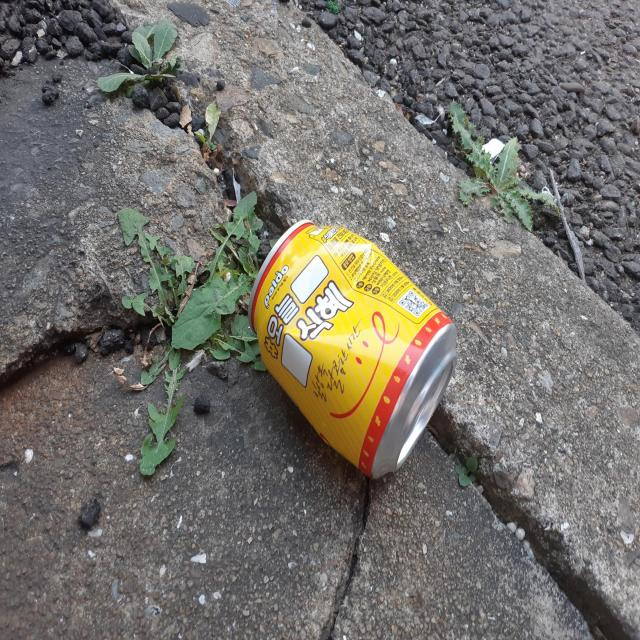can: (248, 220, 457, 478)
